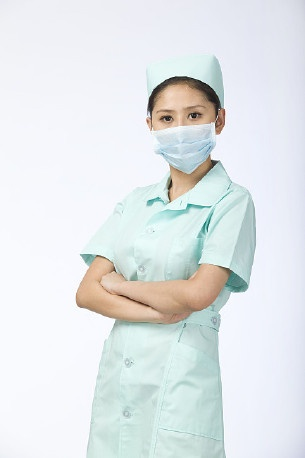Mask: (148, 103, 220, 176)
